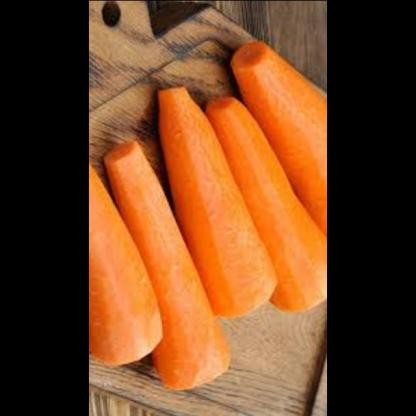carrot: (108, 140, 236, 406), (150, 86, 277, 318), (207, 94, 328, 319), (228, 35, 328, 235), (90, 158, 165, 384)
